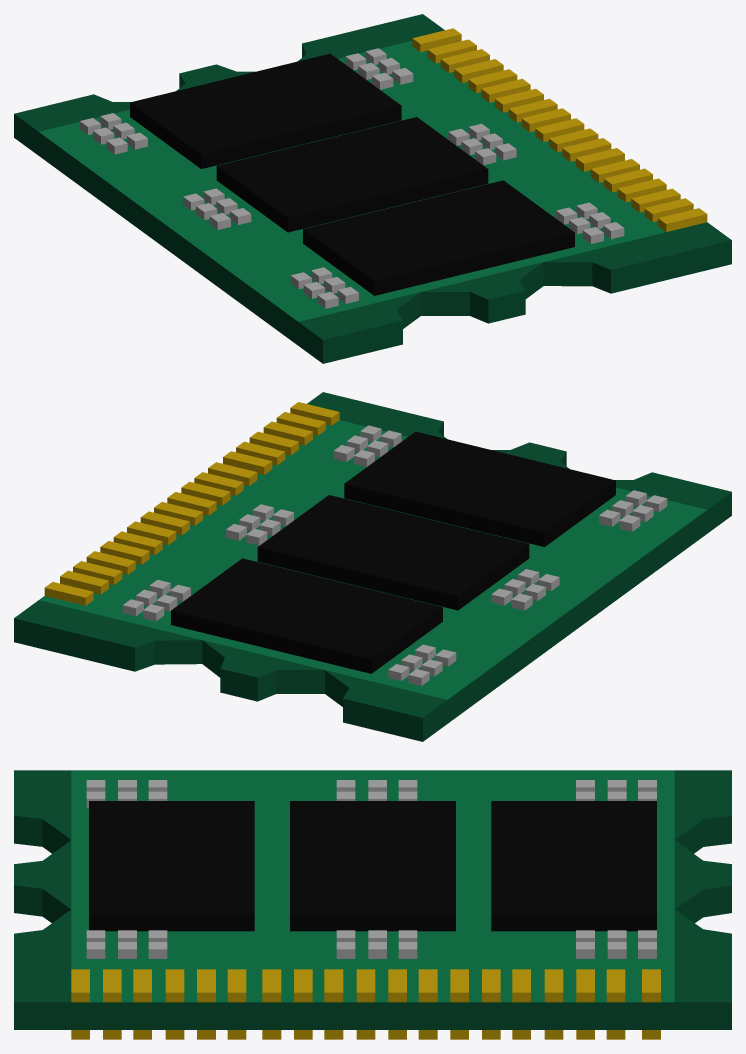
The model's file is memory_module.glb.
3 renders of one model, top to bottom at view 1: azimuth 30°, elevation 25°; view 2: azimuth 150°, elevation 25°; view 3: azimuth 270°, elevation 25°, orthographic. The views are drawn at different scales.
Parts seen in each view (by area): view 1: Mesh_ComputerRam_01; view 2: Mesh_ComputerRam_01; view 3: Mesh_ComputerRam_01.
Boxes of the visible parts, left/top/right/bottom form: Mesh_ComputerRam_01: left=14, top=14, right=731, bottom=363; Mesh_ComputerRam_01: left=14, top=392, right=731, bottom=741; Mesh_ComputerRam_01: left=14, top=770, right=731, bottom=1039.
Bounding box in the file's own units: 5.67 × 0.6178 × 7.42.
Materials: 1 (1 with a texture image).
